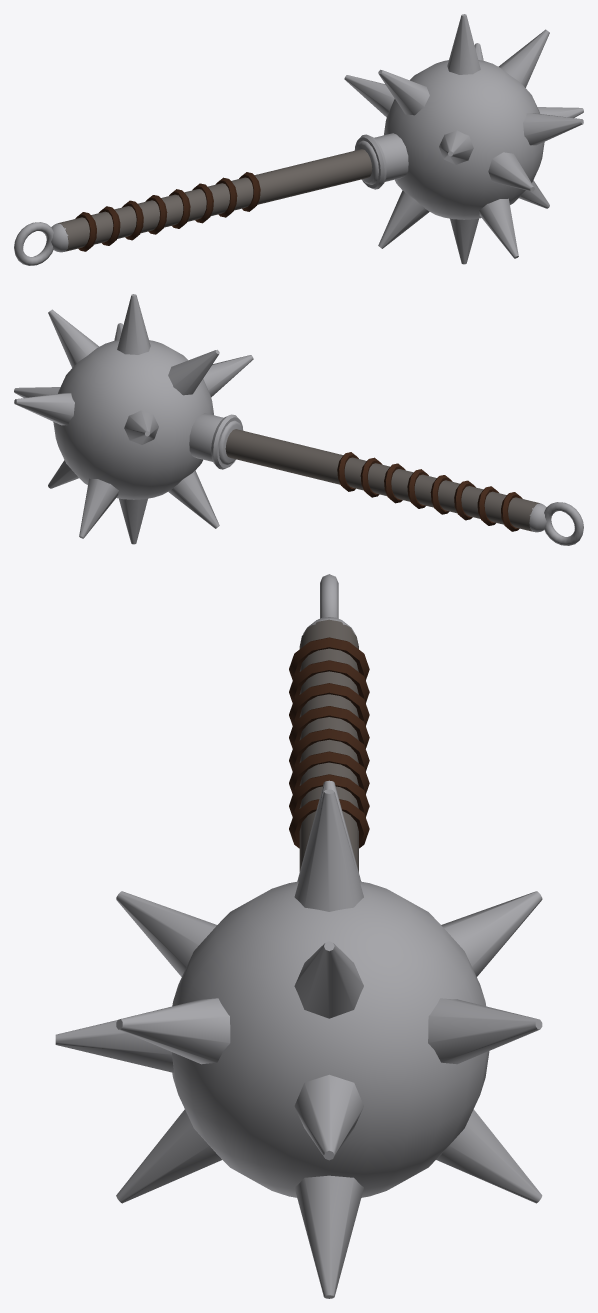
File: mace.glb
The picture shows the model from 3 angles, top to bottom: view 1: azimuth 30°, elevation 25°; view 2: azimuth 150°, elevation 25°; view 3: azimuth 270°, elevation 25°; orthographic projection. The views are drawn at different scales.
Parts seen in each view (by area): view 1: Head, Handle, Pommel; view 2: Head, Handle, Pommel; view 3: Head, Handle, Pommel.
Part boxes in pixels (x1=…): Head: x1=344, y1=14, x2=583, y2=264; Handle: x1=58, y1=149, x2=372, y2=251; Pommel: x1=14, y1=222, x2=68, y2=265; Head: x1=14, y1=294, x2=253, y2=544; Handle: x1=225, y1=429, x2=539, y2=531; Pommel: x1=529, y1=502, x2=583, y2=545; Head: x1=55, y1=780, x2=542, y2=1298; Handle: x1=289, y1=619, x2=369, y2=871; Pommel: x1=303, y1=574, x2=354, y2=634.
Size of the model in its own units: 0.973 by 0.406 by 0.3611.
